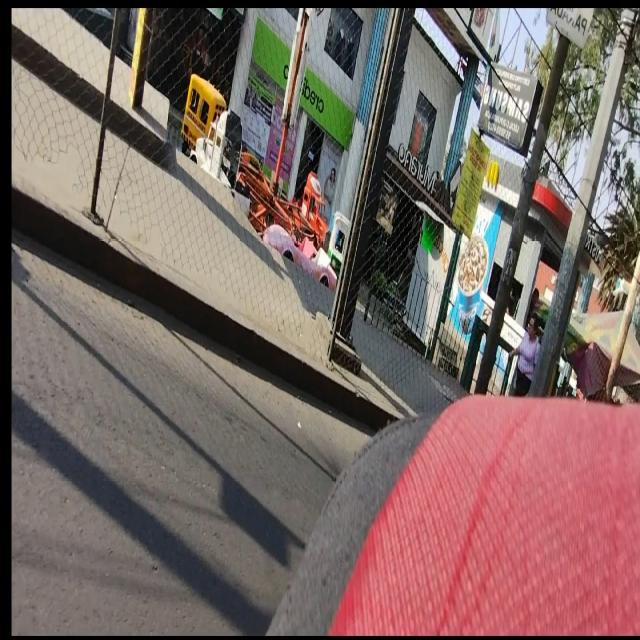adult: (510, 314, 539, 398)
